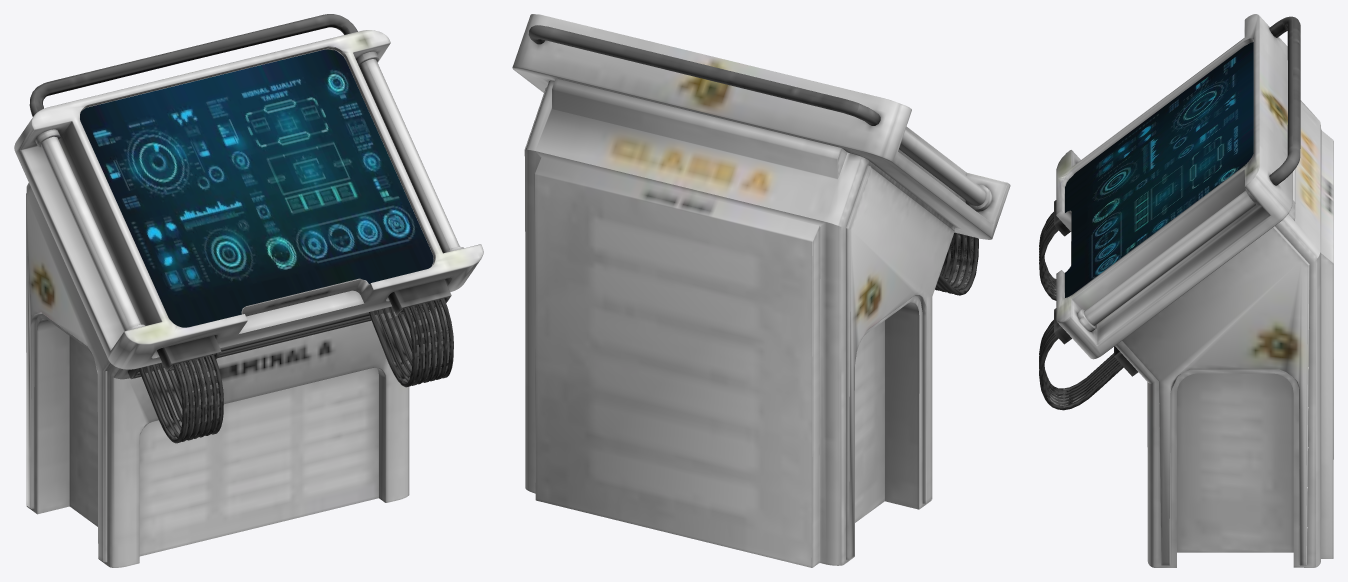
The model's file is terminal.glb.
3 views of the same model, side by side, from view 1: azimuth 30°, elevation 25°; view 2: azimuth 150°, elevation 25°; view 3: azimuth 270°, elevation 25° (orthographic). The views are drawn at different scales.
Visible parts, largest first — view 1: Object_74, Object_42, Object_30, Object_76, Object_40, Object_36, Object_38, Object_4, Object_44, Object_32, Object_34, Object_60 (+9 smaller); view 2: Object_42, Object_30, Object_76, Object_40, Object_36; view 3: Object_42, Object_74, Object_78, Object_30, Object_38, Object_40, Object_72, Object_46.
Boxes of the visible parts, box(x1,y1,x2,y2) form: Object_74: box(80, 49, 433, 327); Object_42: box(26, 183, 409, 567); Object_30: box(14, 30, 483, 369); Object_76: box(26, 187, 111, 562); Object_40: box(29, 14, 357, 116); Object_36: box(35, 129, 145, 331); Object_38: box(356, 51, 463, 253); Object_4: box(145, 311, 449, 438); Object_44: box(128, 312, 371, 379); Object_32: box(157, 335, 221, 371); Object_34: box(388, 279, 451, 315); Object_60: box(369, 307, 417, 387); Object_42: box(525, 78, 954, 567); Object_30: box(512, 14, 1010, 239); Object_76: box(846, 165, 954, 559); Object_40: box(528, 25, 880, 125); Object_36: box(899, 129, 992, 211); Object_42: box(1115, 100, 1333, 567); Object_74: box(1065, 42, 1253, 297); Object_78: box(1122, 226, 1309, 565); Object_30: box(1056, 14, 1292, 359); Object_38: box(1077, 188, 1260, 331); Object_40: box(1269, 16, 1300, 185); Object_72: box(1039, 335, 1123, 410); Object_46: box(1039, 227, 1058, 300).
Size of the model in its own units: 3 by 3.44 by 2.23.
Materials: 3 (2 with a texture image).
